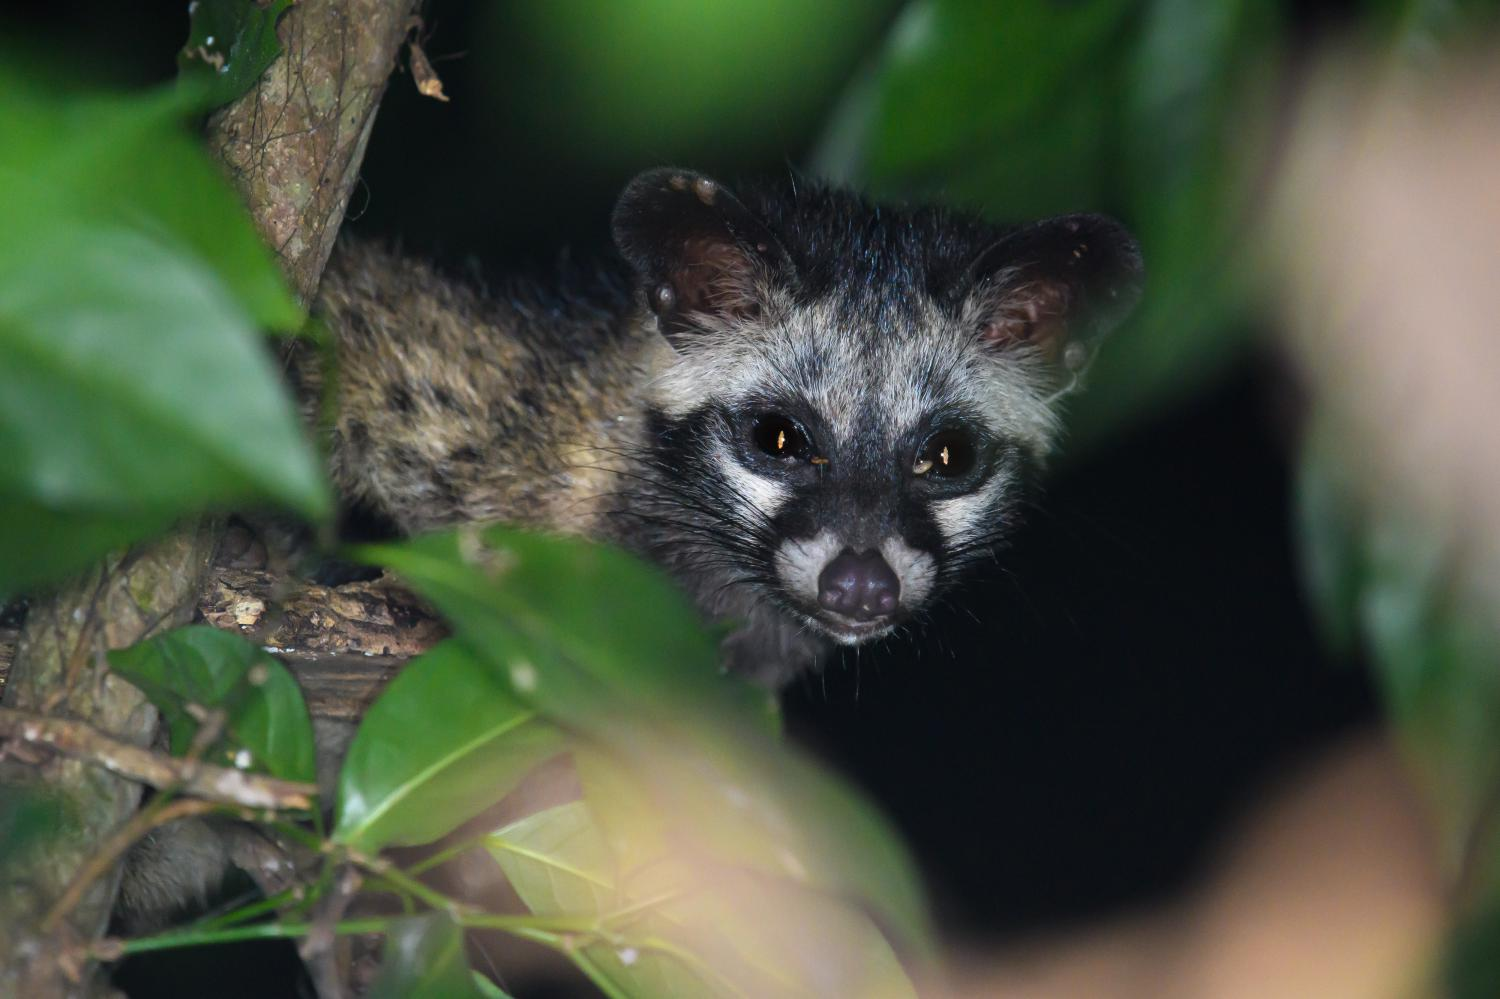Civet: (553, 124, 1156, 753)
